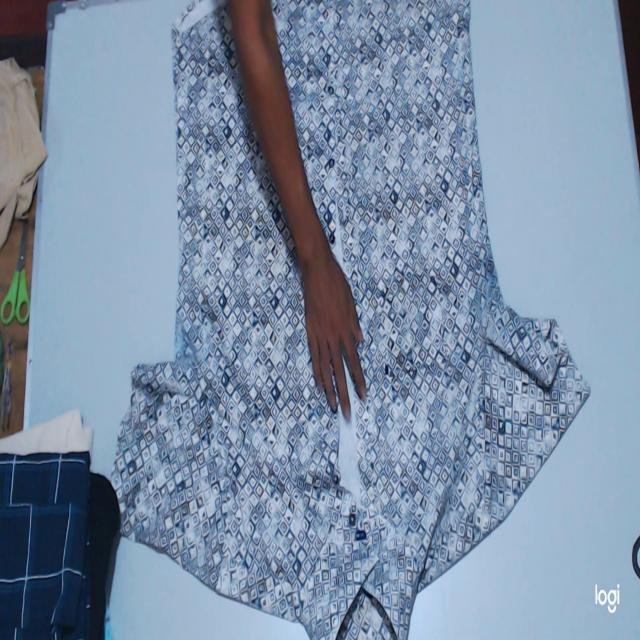new-garment: (112, 0, 590, 639)
